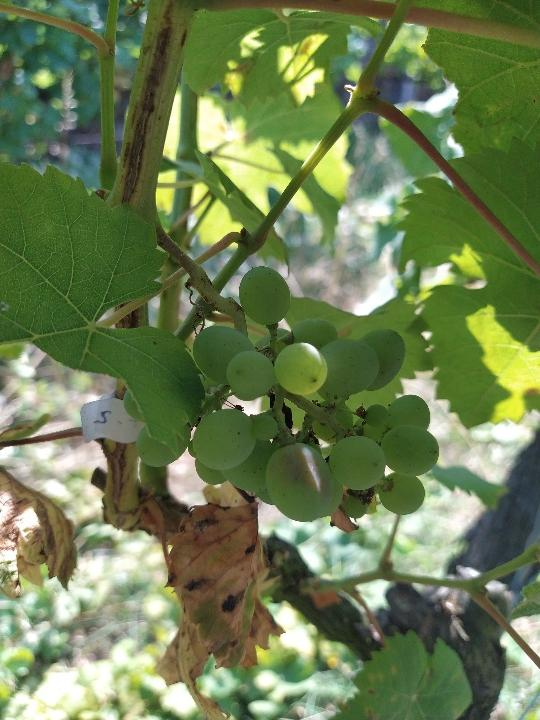grape: (121, 262, 441, 524)
